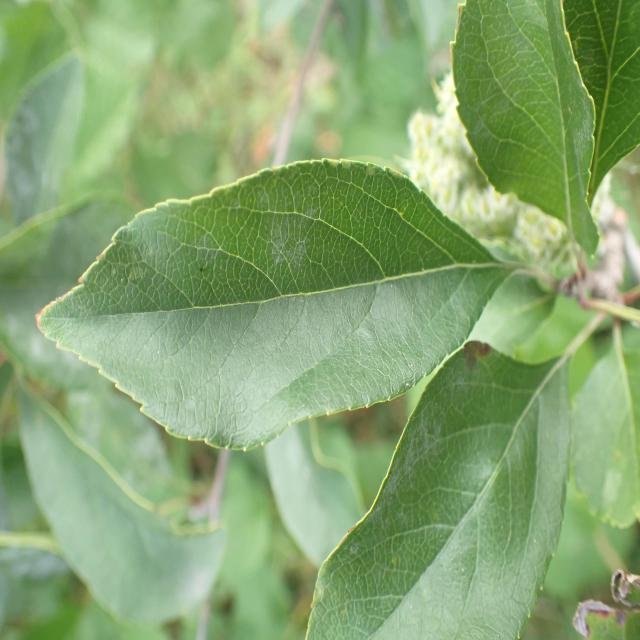Powdery_mildew: (54, 151, 491, 433), (258, 342, 588, 640), (448, 0, 622, 295)
